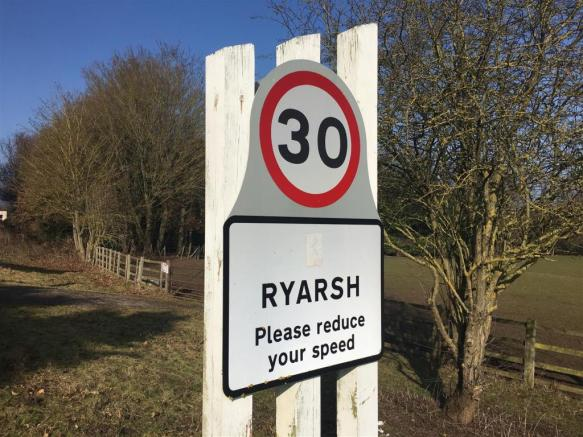Speed_limit_30km: (258, 70, 362, 207)
